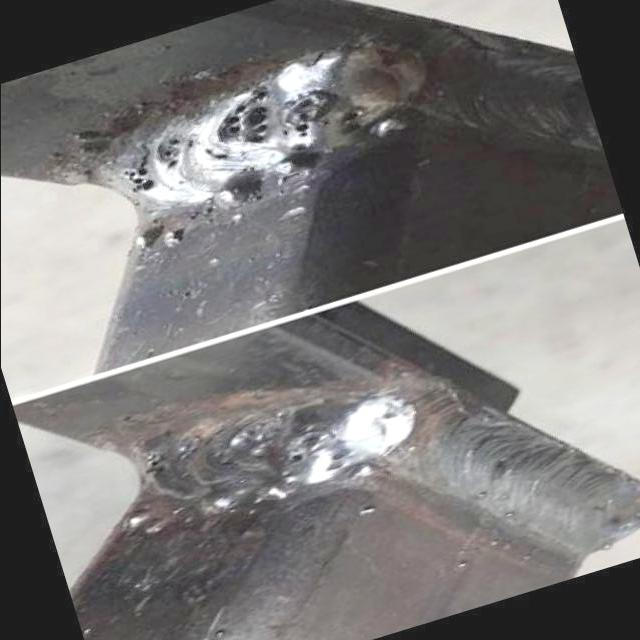defect: (118, 133, 187, 198), (208, 84, 278, 147), (277, 90, 336, 140), (280, 424, 331, 466), (321, 446, 352, 476)
